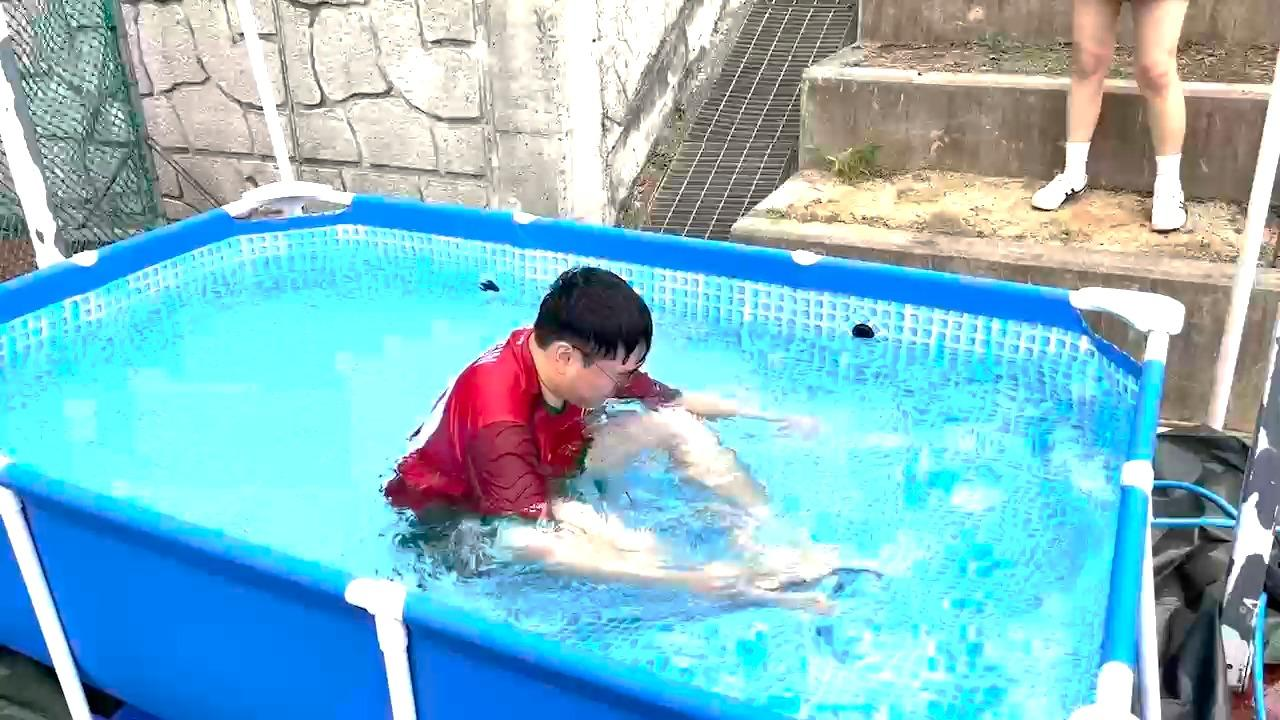Swimming: (325, 189, 906, 656)
